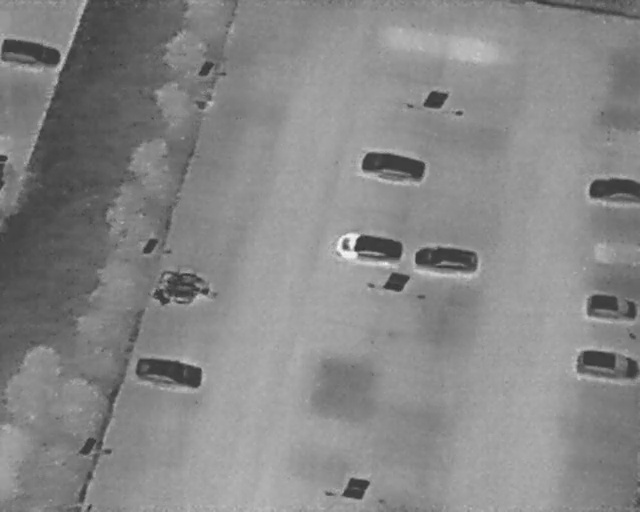Car: (357, 143, 429, 187), (133, 352, 206, 394), (332, 226, 404, 266), (411, 239, 479, 278), (575, 348, 638, 383), (1, 37, 61, 68), (583, 293, 637, 323), (590, 177, 640, 204)
